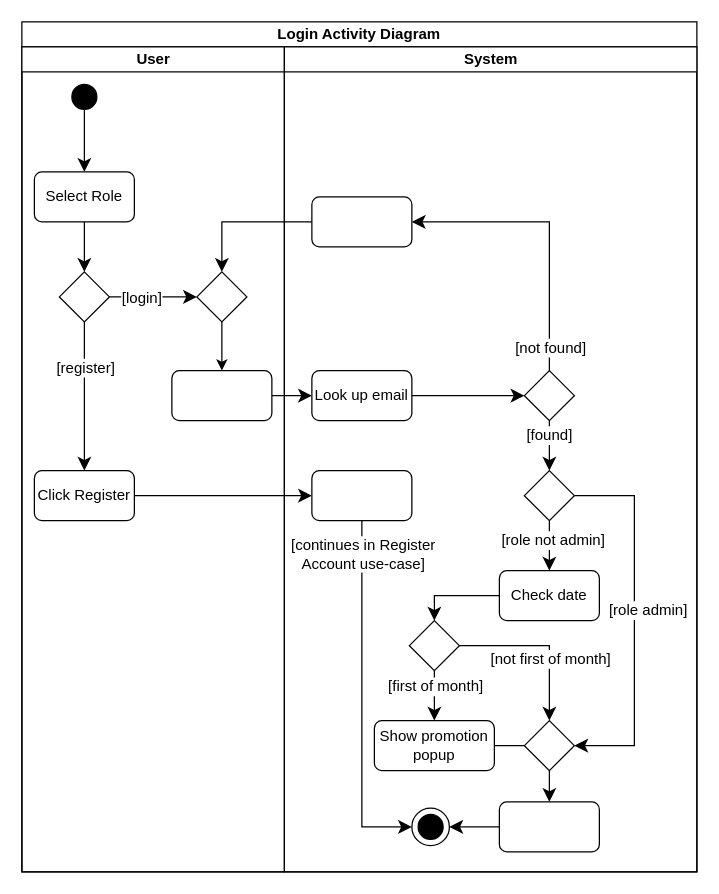
This 719x894 diagram has some shape labels left out. Here are the shapes that lost their labels. From the top down, the box of each, then its label:
(311, 196, 412, 247): Show "not found"
(171, 369, 272, 421): Enter email
(311, 469, 412, 521): Register Account
(498, 801, 599, 852): Show main menu
